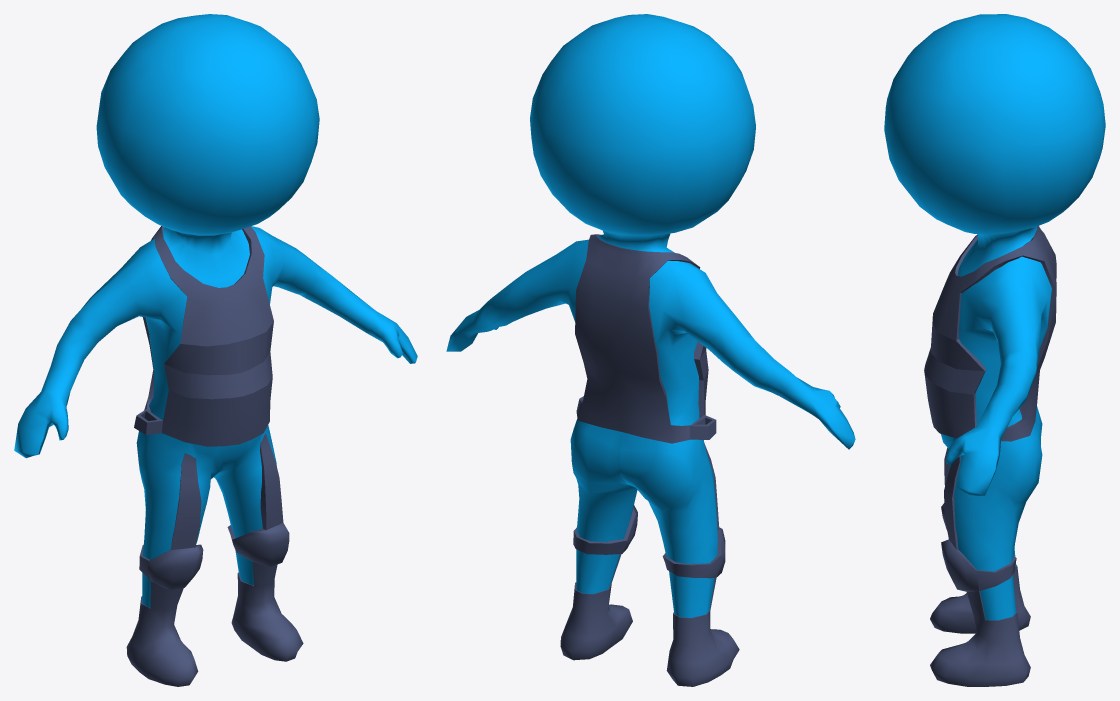
File: Human_1.fbx
3 renders of one model, left to right at view 1: azimuth 30°, elevation 25°; view 2: azimuth 150°, elevation 25°; view 3: azimuth 270°, elevation 25°, orthographic.
Parts seen in each view (by area): view 1: polySurface104; view 2: polySurface104; view 3: polySurface104.
Part boxes in pixels (x1,y1,x2,y2): polySurface104: (14,14,417,686); polySurface104: (446,14,855,686); polySurface104: (884,14,1105,686).
Bounding box in the file's own units: 1.23 × 1.85 × 0.5932.
